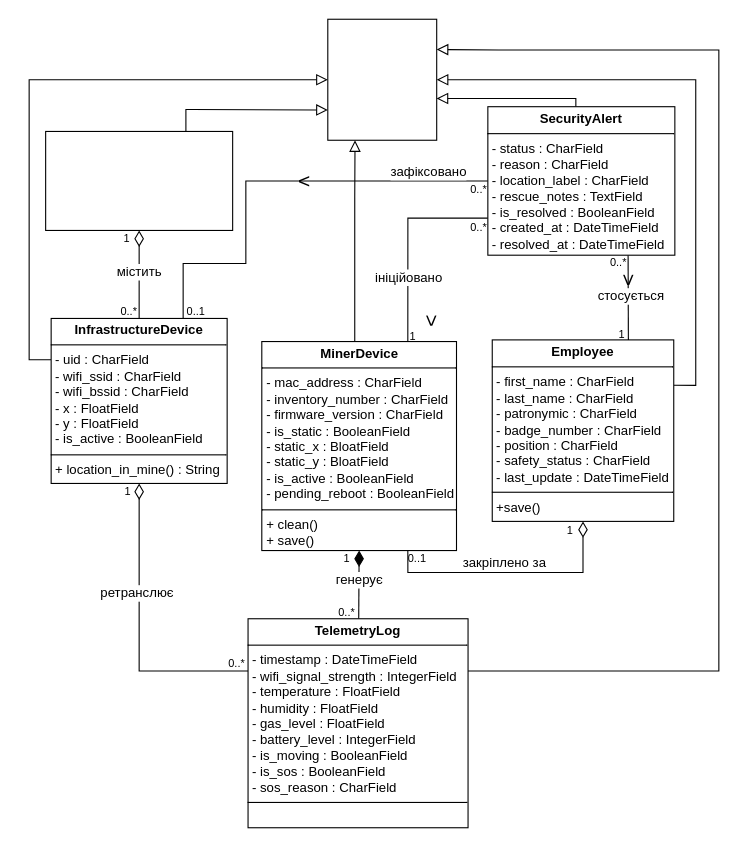
The diagram is 749 pixels wide and 847 high, and some of its shapes have lost their labels. Each missing label, with the centre of its shape:
MineMap - name : ChatField - map_data : JSONField - updated_at : DateTimeField: point (139, 180)
models.Model +save() +clean() +delete(): point (382, 79)
